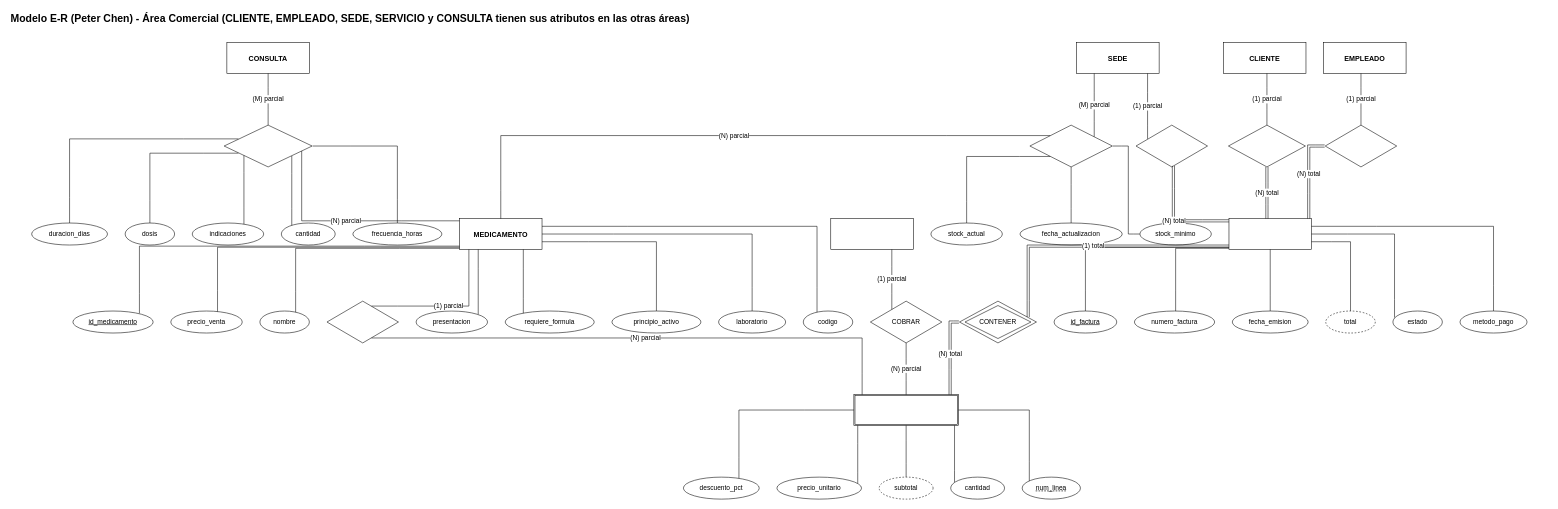
Image size: 1558x509. Some labels were removed from this diagram. The box of each missing label's shape, as (x1, y1, x2, y2) in pixels:
ALMACENAR: (1029, 125, 1112, 167)
DETALLE_FACTURA: (853, 394, 958, 425)
EMITIR: (1325, 125, 1397, 167)
EXPEDIR: (1135, 125, 1208, 167)
FACTURA: (1228, 218, 1311, 249)
FACTURAR: (1228, 125, 1305, 167)
PRESCRIBIR: (224, 125, 312, 167)
SERVICIO: (830, 218, 913, 249)
VENDER: (326, 301, 398, 343)
